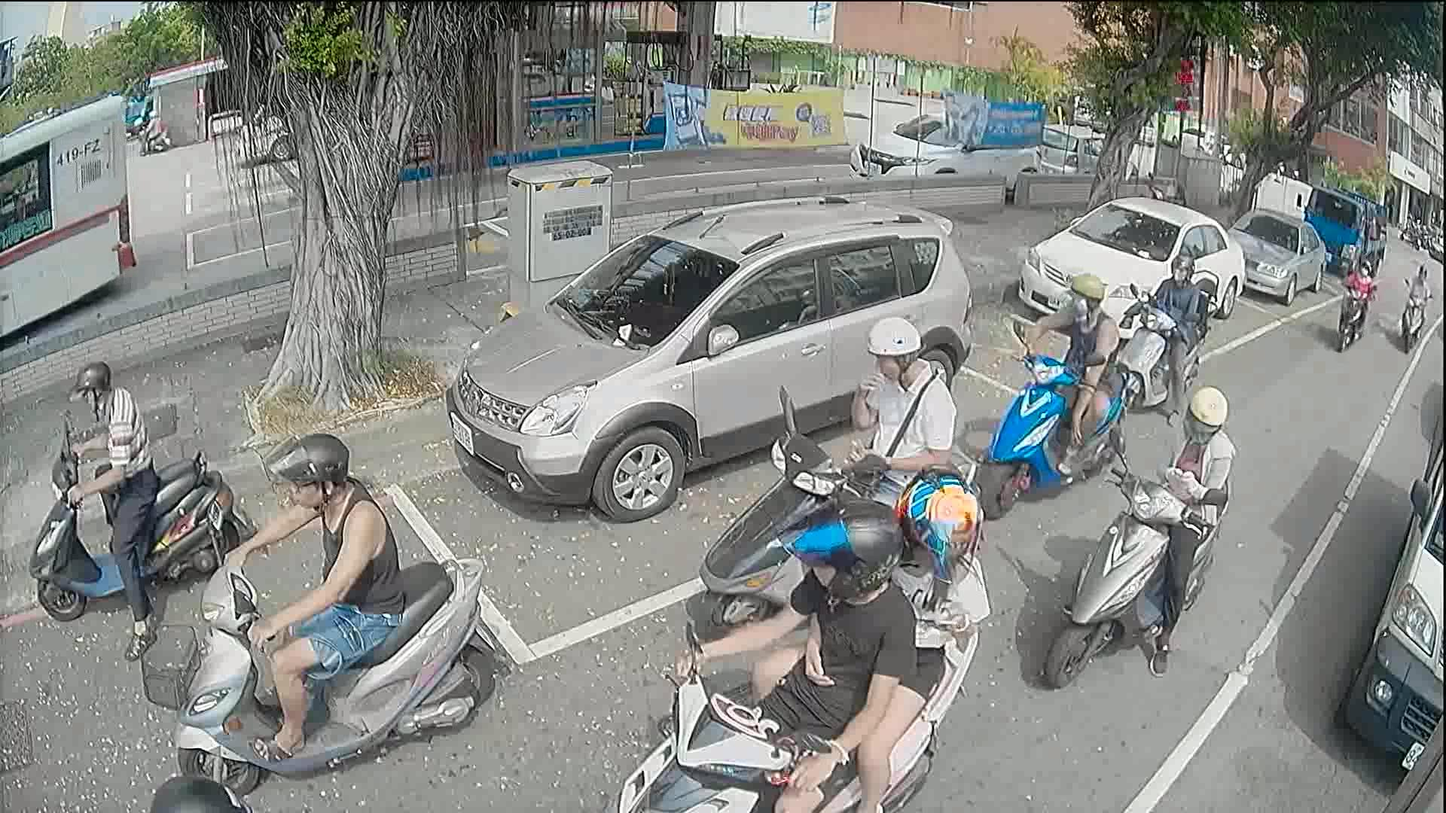person: (655, 504, 910, 812), (761, 464, 990, 805), (214, 423, 403, 769), (45, 352, 163, 639), (1130, 376, 1228, 676), (842, 313, 956, 513), (1022, 263, 1118, 474), (1143, 254, 1214, 414), (151, 757, 247, 811), (1339, 257, 1377, 339), (1401, 260, 1431, 331), (144, 111, 166, 146)
